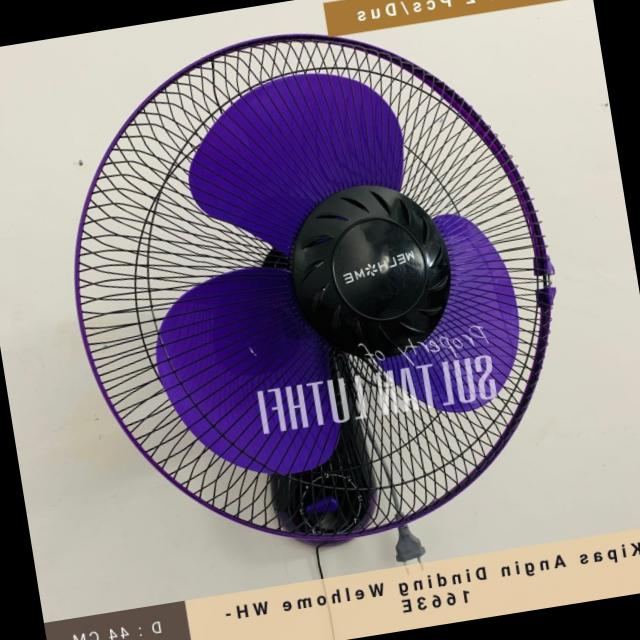fan: (33, 0, 593, 586)
